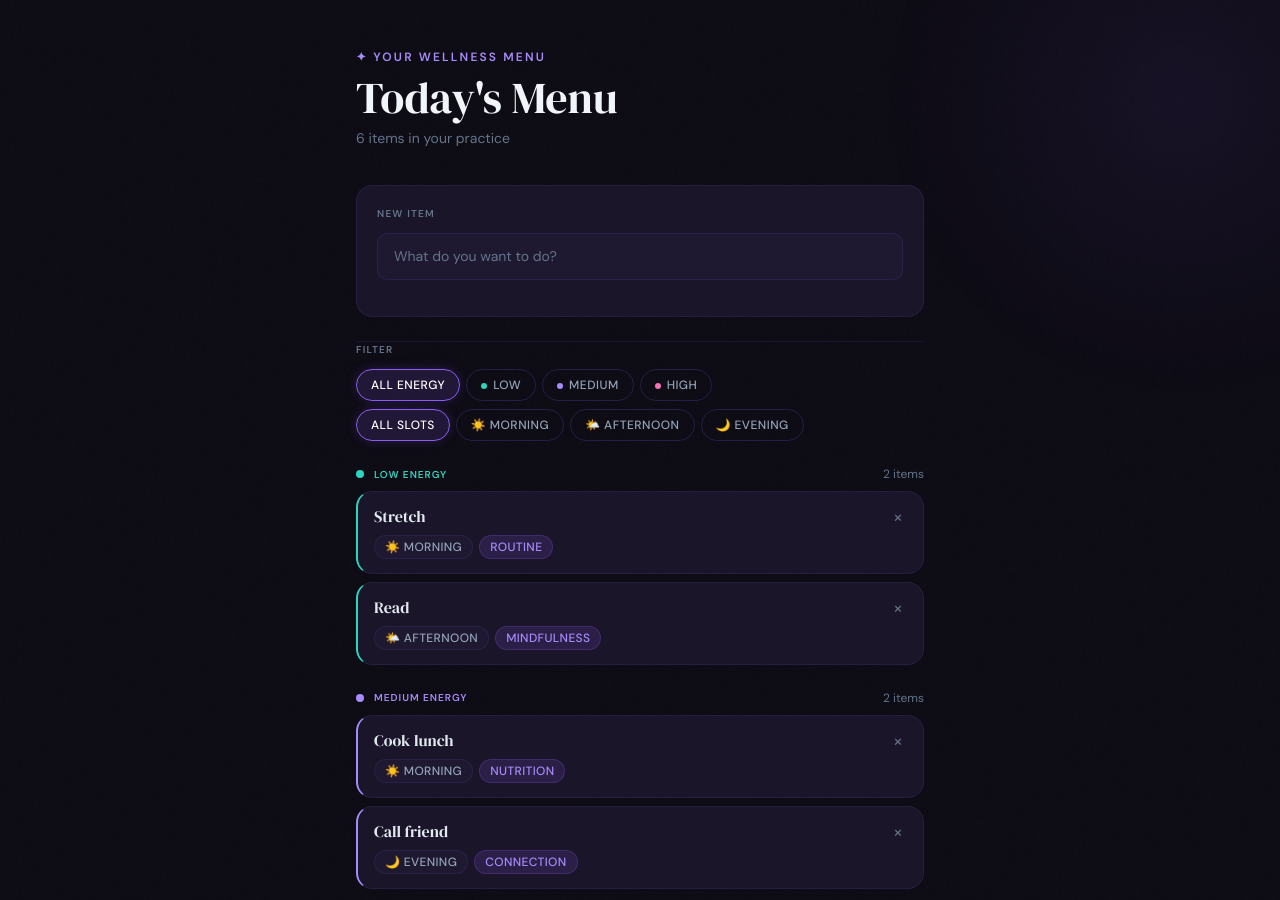
Test case: App — energy filter › shows only low-energy items after clicking the Low pill
Check: the text "Stretch" is shown, box x1=374 y1=505 x2=426 y2=527
Click the button "Low". click: [501, 385]
box: x1=466 y1=369 x2=536 y2=401
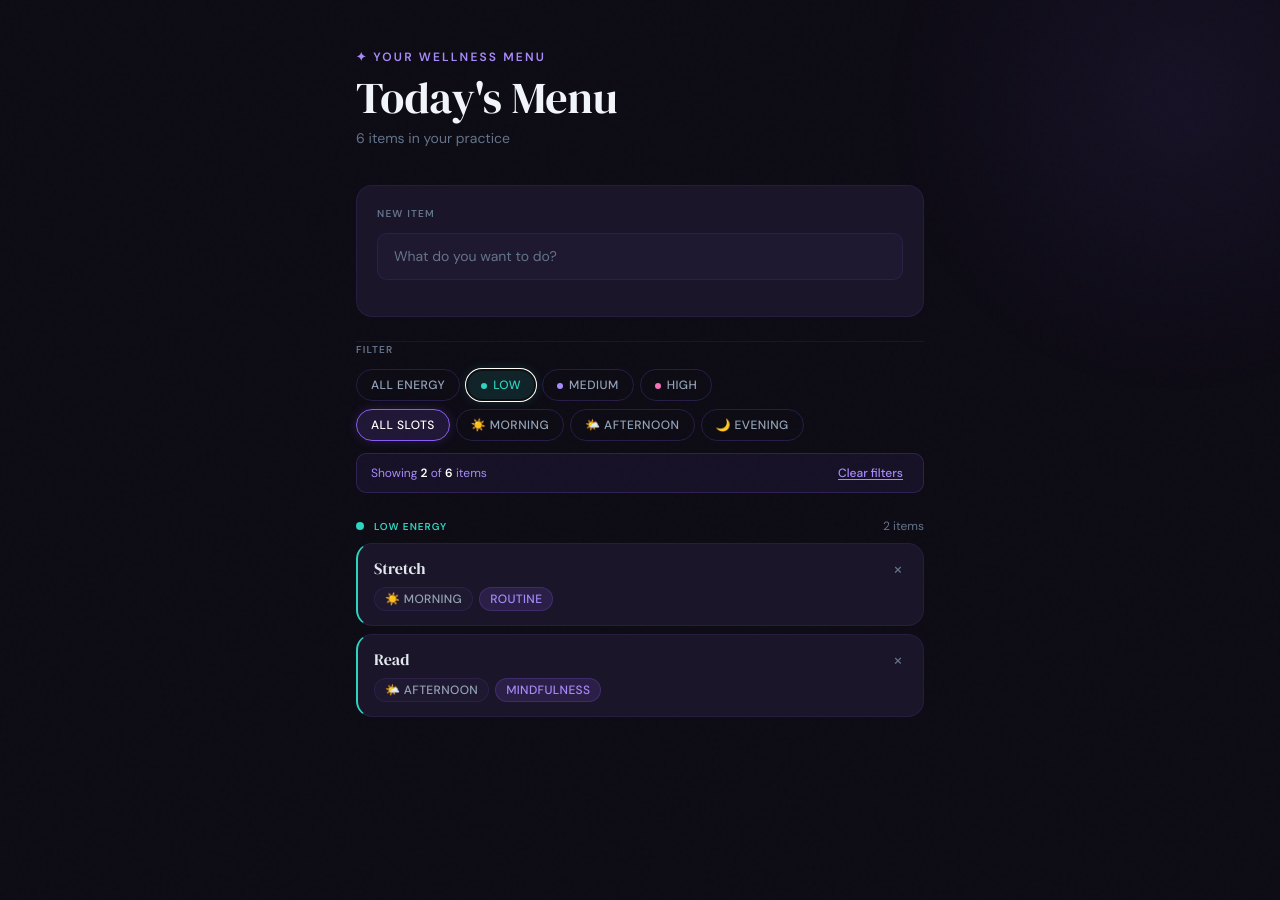
Check: the text "Stretch" is shown, box x1=374 y1=557 x2=426 y2=579
Check: the text "Cook lunch" is gone
